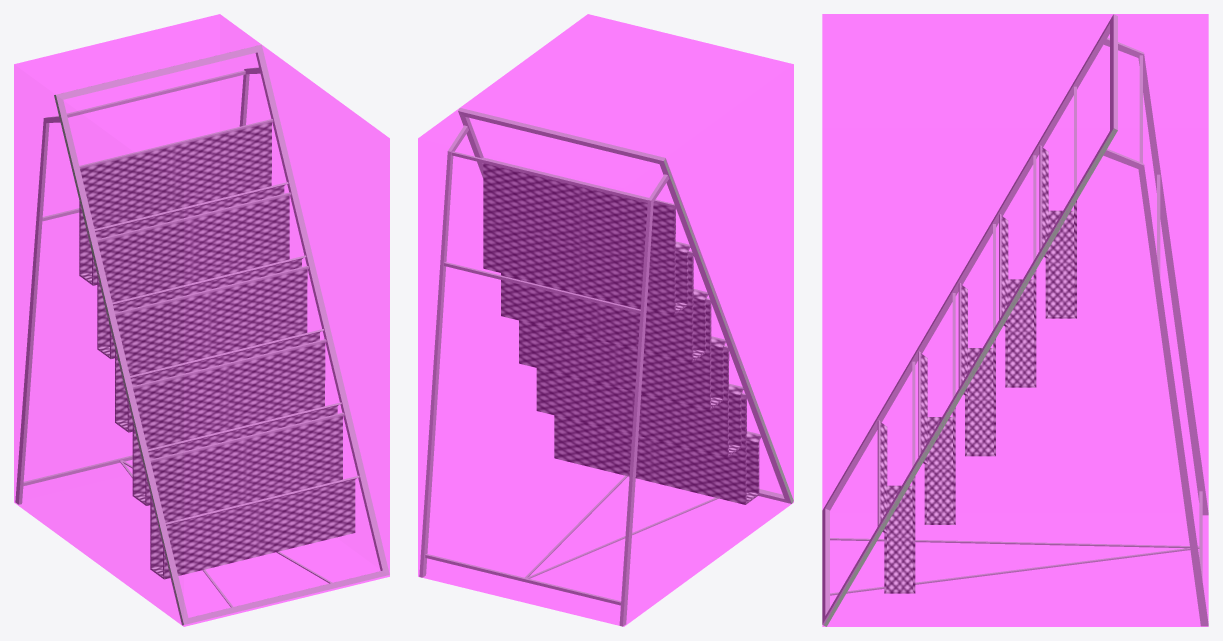
The model's file is magazine_rack_A.fbx.
3 views of the same model, side by side, from view 1: azimuth 30°, elevation 25°; view 2: azimuth 150°, elevation 25°; view 3: azimuth 270°, elevation 25° (orthographic). The views are drawn at different scales.
Parts seen in each view (by area): view 1: magazine_rack_boundingBox, magazine_rack; view 2: magazine_rack_boundingBox, magazine_rack; view 3: magazine_rack_boundingBox, magazine_rack.
Part boxes in pixels (x1=…): magazine_rack_boundingBox: x1=14, y1=14, x2=389, y2=626; magazine_rack: x1=15, y1=44, x2=389, y2=625; magazine_rack_boundingBox: x1=418, y1=14, x2=793, y2=626; magazine_rack: x1=419, y1=108, x2=793, y2=626; magazine_rack_boundingBox: x1=822, y1=14, x2=1208, y2=626; magazine_rack: x1=822, y1=14, x2=1208, y2=626.
Bounding box in the file's own units: 0.435 × 0.8854 × 0.6215.
2 materials, 1 textured.
